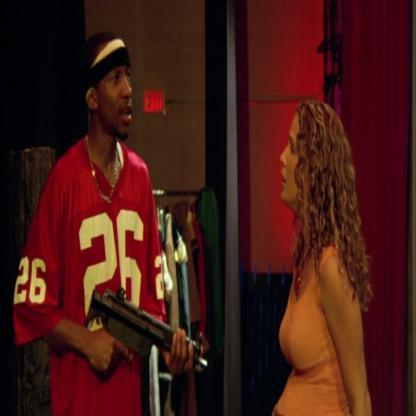gun: (87, 273, 223, 388)
